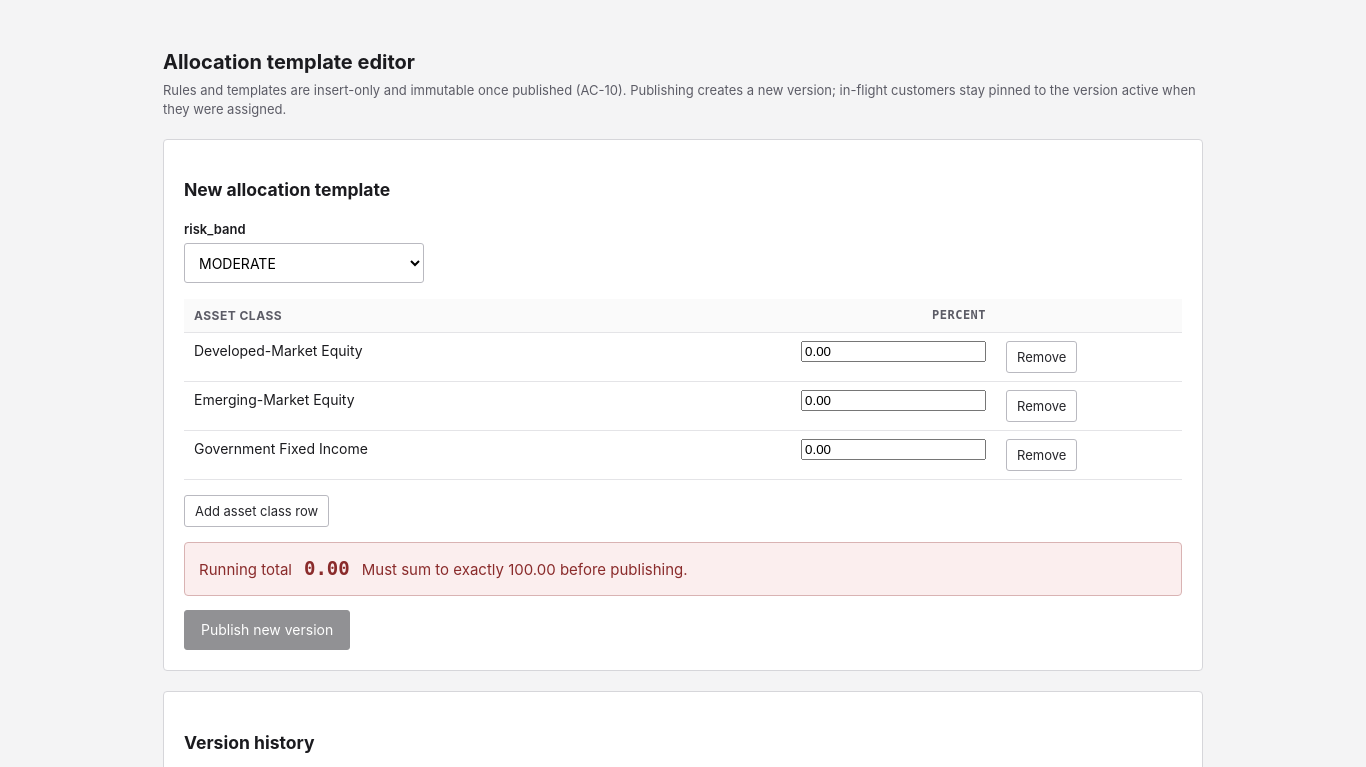
Test: TemplateEditor › supports removing an allocation row, excluding it from the running total
expect the field with test id "allocation-percent-0" is shown: met, box [801,342,986,362]
Click the button with aria-label "remove row 1": (1042, 358) [1006,342,1077,374]
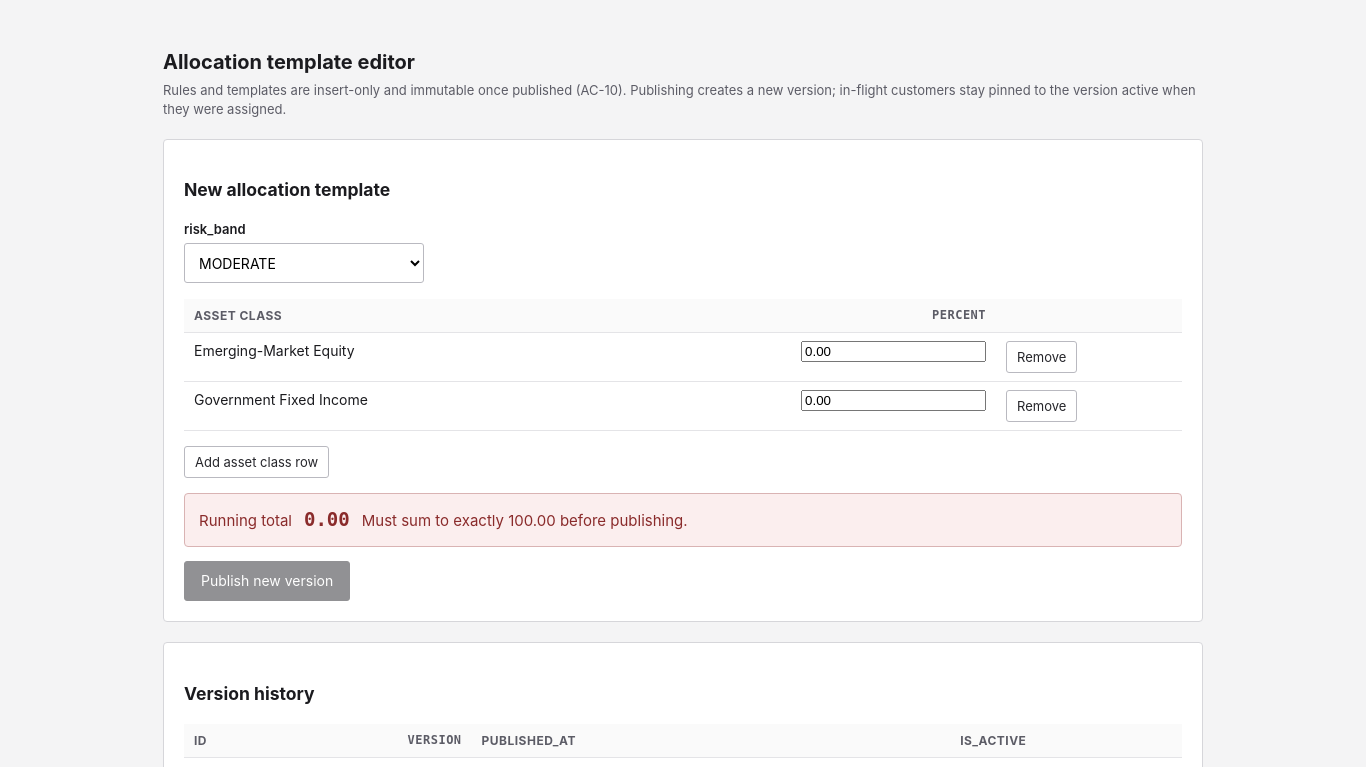
expect the message with test id "allocation-total" shows "0.00": met, box [304,508,350,530]
expect the text "Developed-Market Equity" is gone: met
